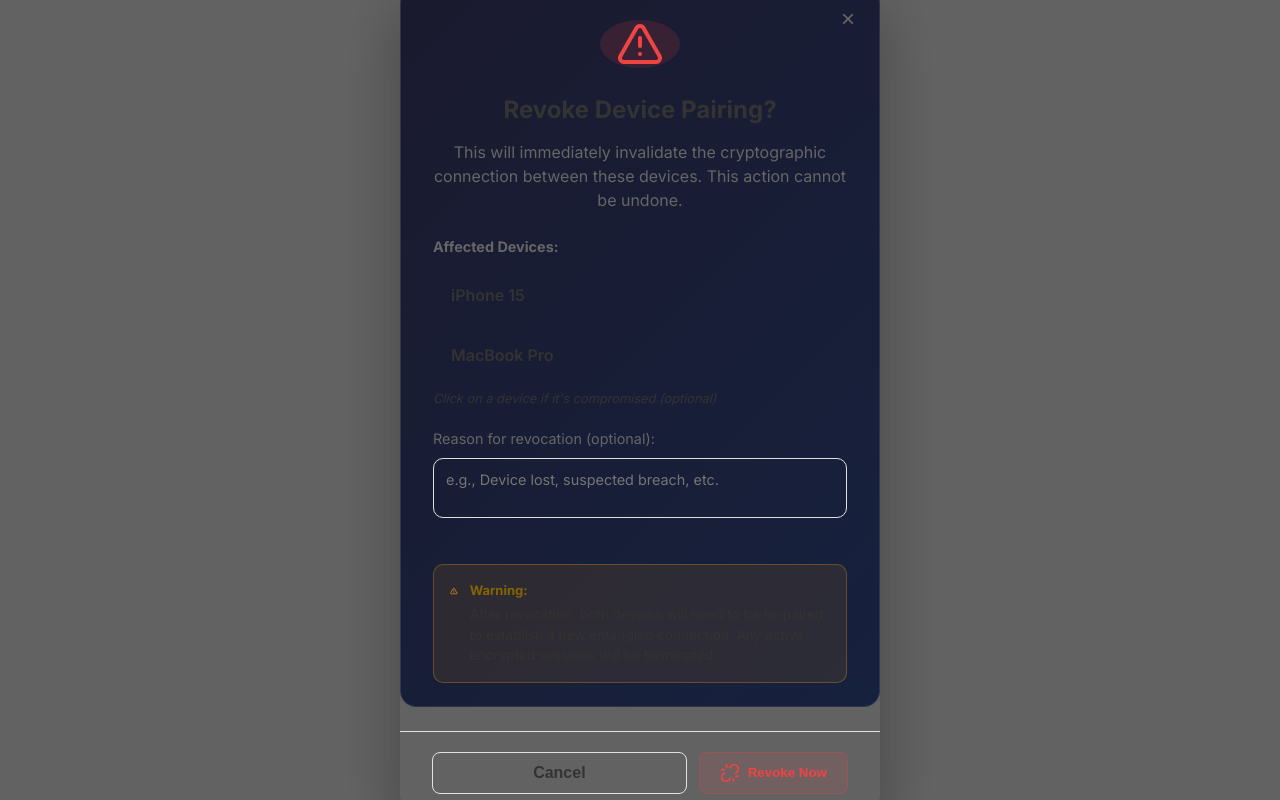
Scenario: InstantRevokeModal › shows error state on API failure
The image size is (1280, 800).
Step 1. Click the button "Revoke Now" → (773, 772), box [699, 752, 848, 794]
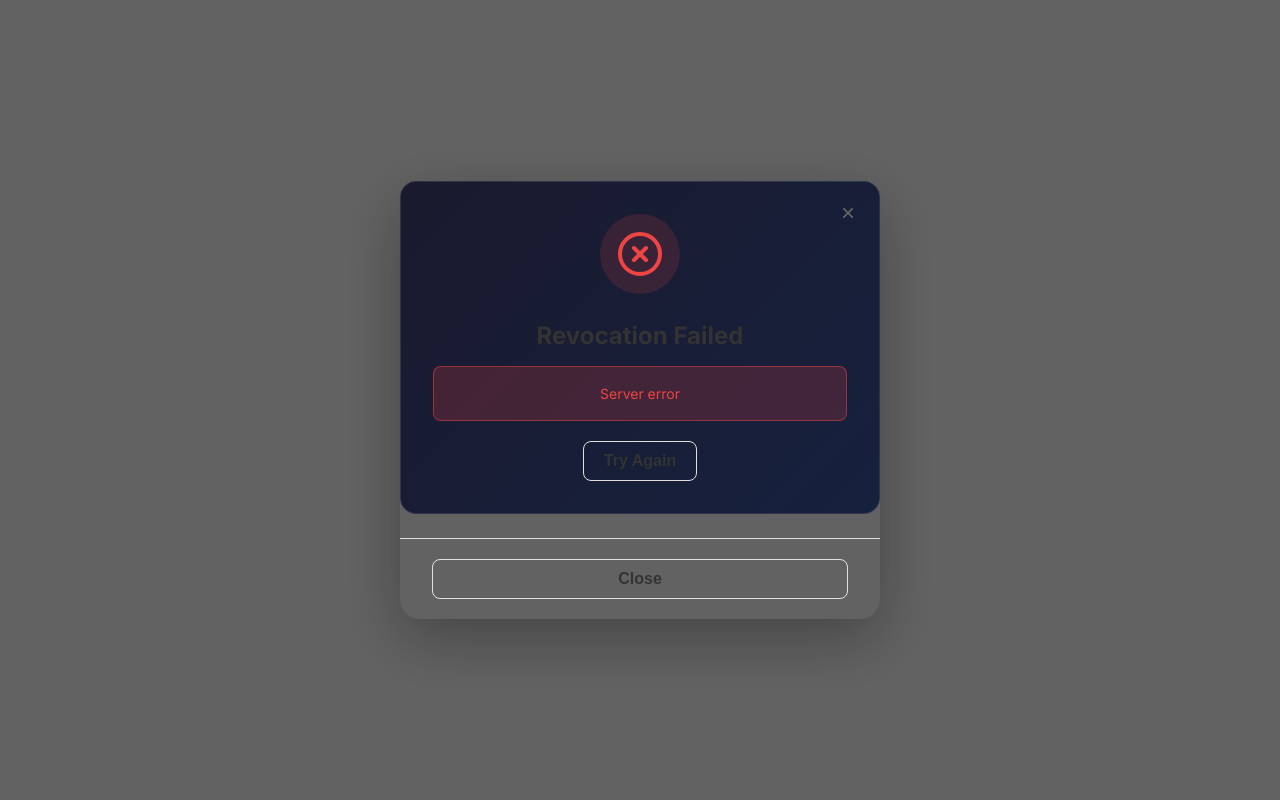
Result: the heading "Revocation Failed" is shown at [536, 321, 744, 350]
